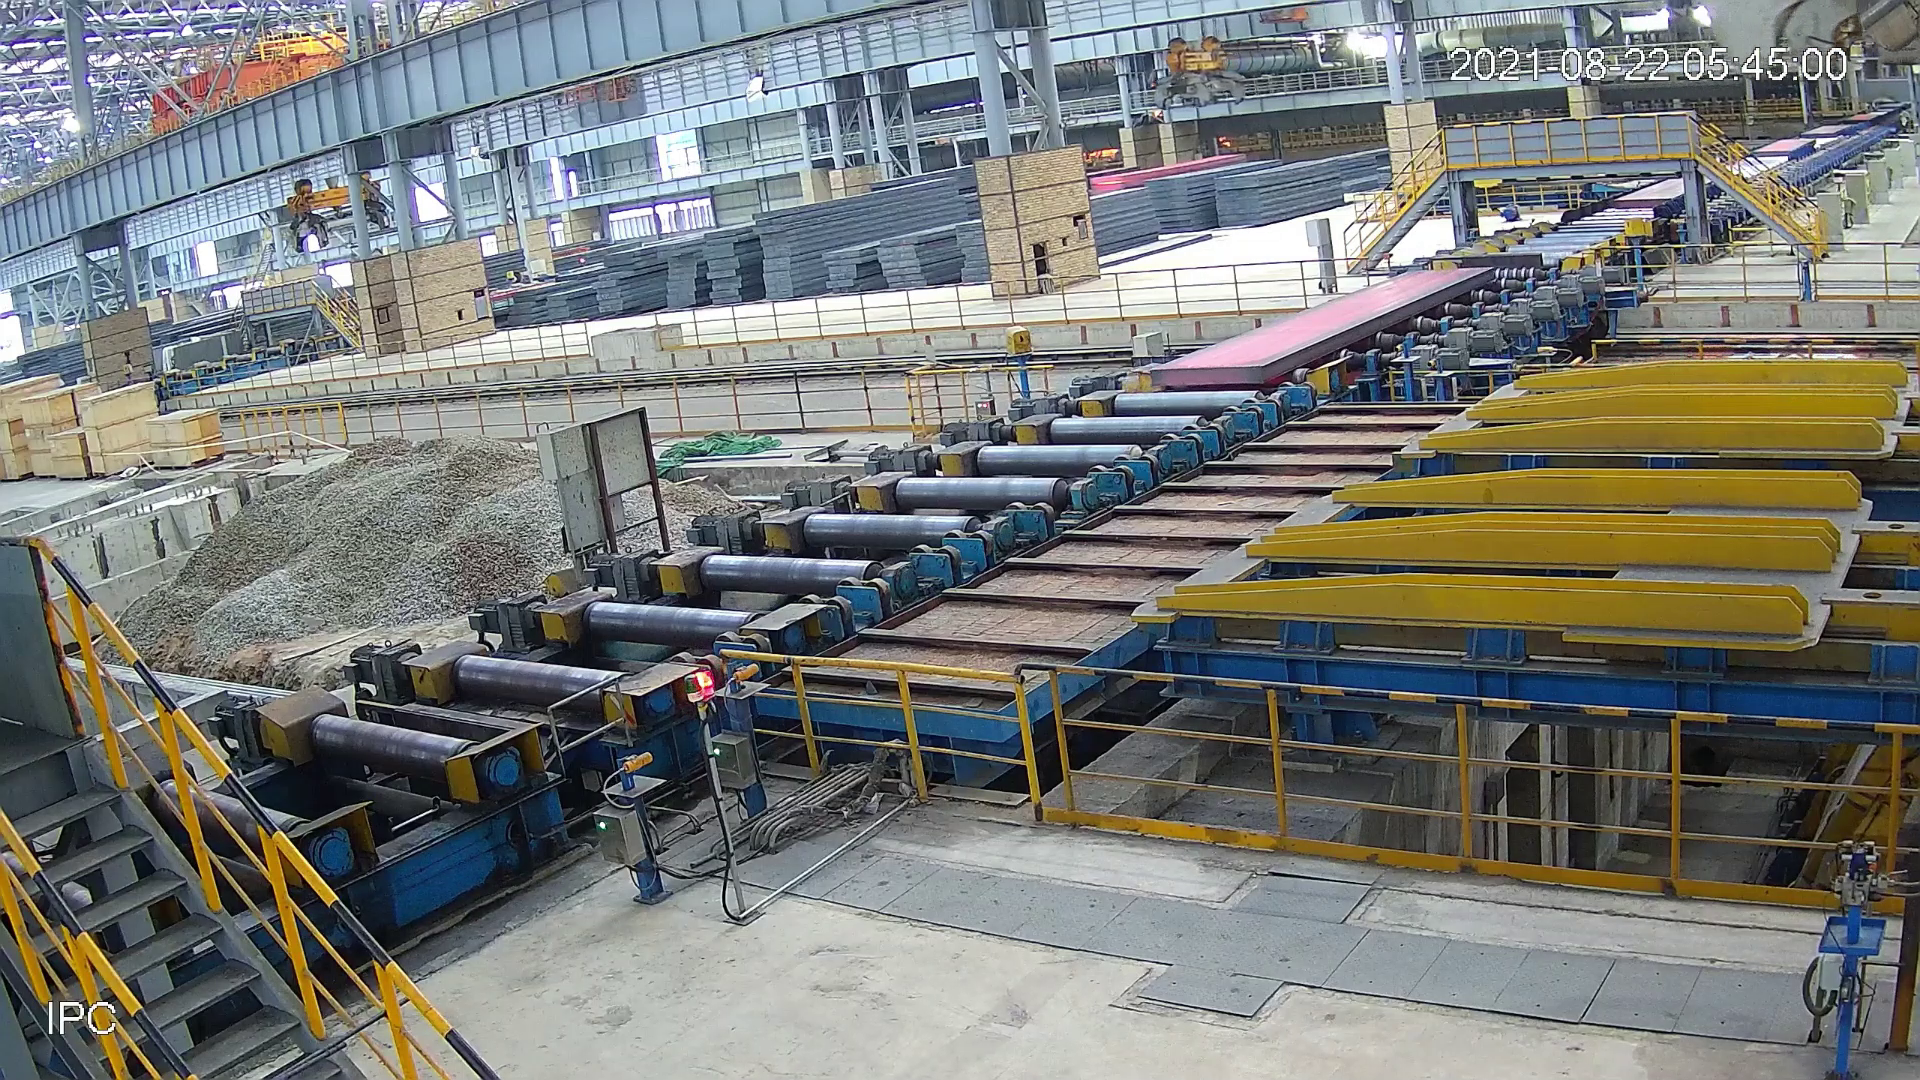crane: (1156, 30, 1250, 109)
slab: (1137, 260, 1498, 398), (1611, 173, 1701, 210)
